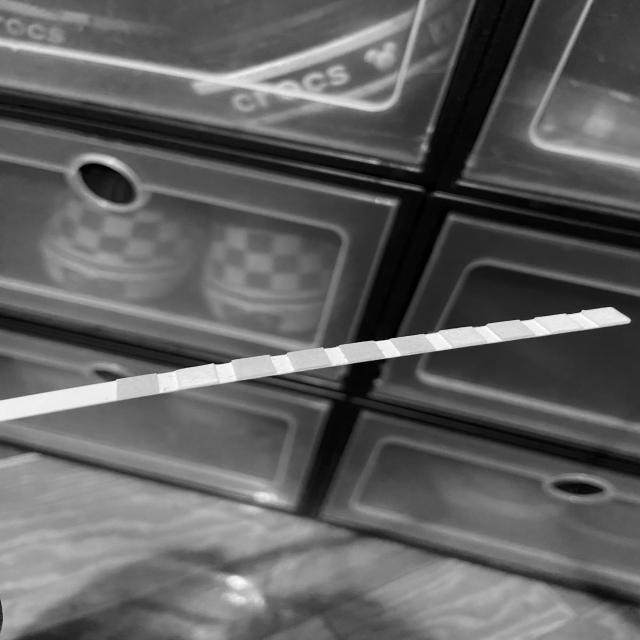Bilirubin: (180, 370, 213, 383)
Blood: (349, 344, 376, 358)
Glucose: (118, 380, 156, 395)
Ketone: (238, 359, 270, 375)
Leukocytes: (599, 308, 614, 324)
Nitrite: (550, 316, 568, 330)
Protein: (454, 329, 474, 345)
SpGravity: (295, 351, 324, 365)
Urobilinogen: (504, 321, 521, 337)
background: (0, 0, 640, 640)
pH: (401, 337, 425, 351)
strip: (0, 306, 631, 422)
